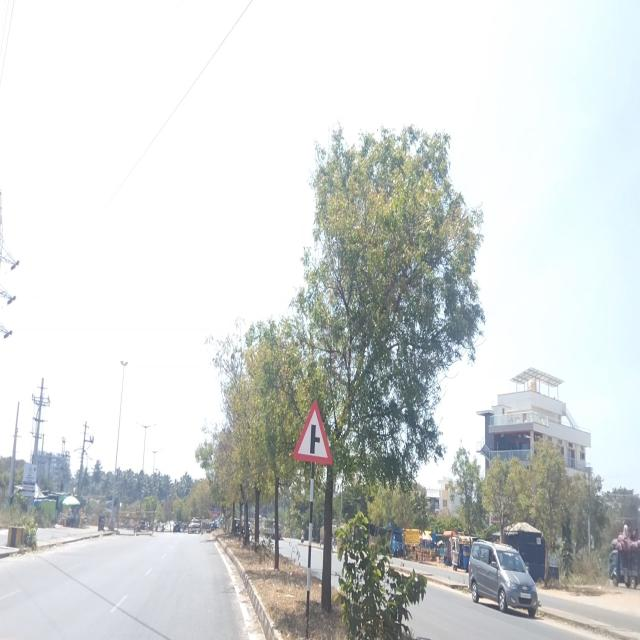bien_cam: (290, 397, 334, 469)
